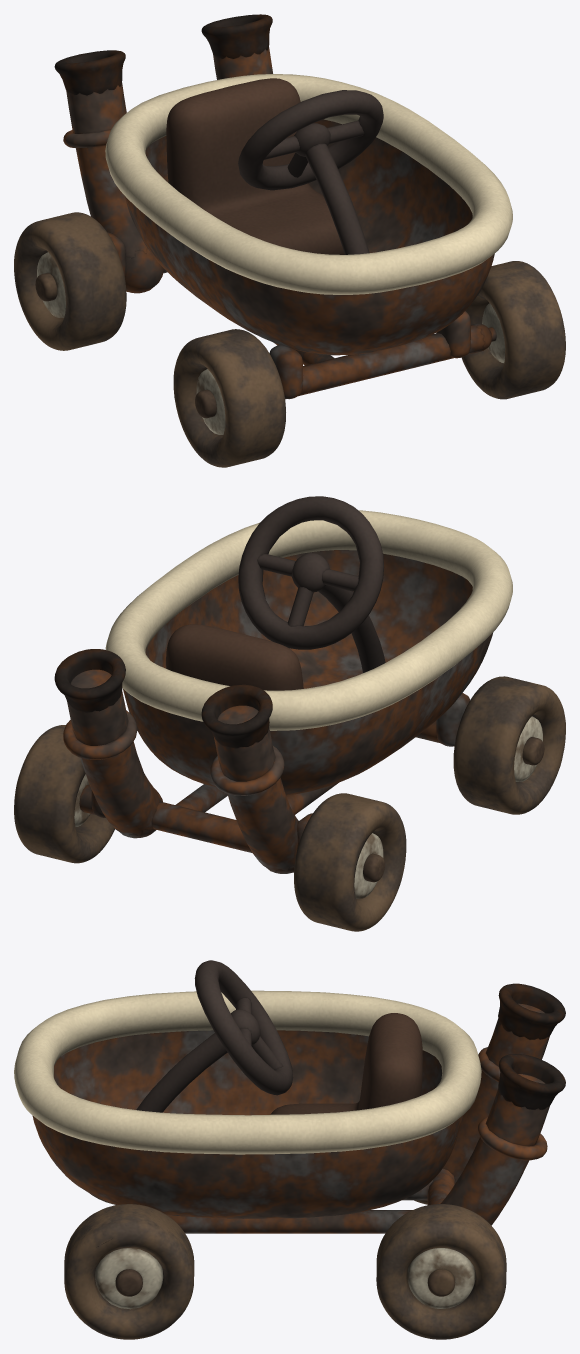
Rendered from kart.glb.
The picture shows the model from 3 angles, top to bottom: view 1: azimuth 30°, elevation 25°; view 2: azimuth 150°, elevation 25°; view 3: azimuth 270°, elevation 25°; orthographic projection. The views are drawn at different scales.
Visible parts, largest first — view 1: body, wheel_FR, wheel_RR, wheel_FL, steering_wheel; view 2: body, wheel_RR, wheel_FR, steering_wheel, wheel_RL; view 3: body, wheel_RL, wheel_FL, steering_wheel.
Part boxes in pixels (bbox=[...]): body: bbox=[54, 14, 512, 399]; wheel_FR: bbox=[173, 329, 285, 467]; wheel_RR: bbox=[14, 212, 126, 350]; wheel_FL: bbox=[461, 261, 565, 399]; steering_wheel: bbox=[238, 90, 383, 190]; body: bbox=[54, 510, 512, 873]; wheel_RR: bbox=[294, 793, 406, 931]; wheel_FR: bbox=[453, 676, 565, 814]; steering_wheel: bbox=[238, 496, 384, 649]; wheel_RL: bbox=[14, 725, 114, 863]; body: bbox=[14, 983, 565, 1233]; wheel_RL: bbox=[376, 1204, 506, 1339]; wheel_FL: bbox=[64, 1204, 194, 1339]; steering_wheel: bbox=[194, 960, 293, 1095].
Bounding box in the file's own units: 0.9711 × 0.8249 × 1.4.
1 material, 1 textured.
